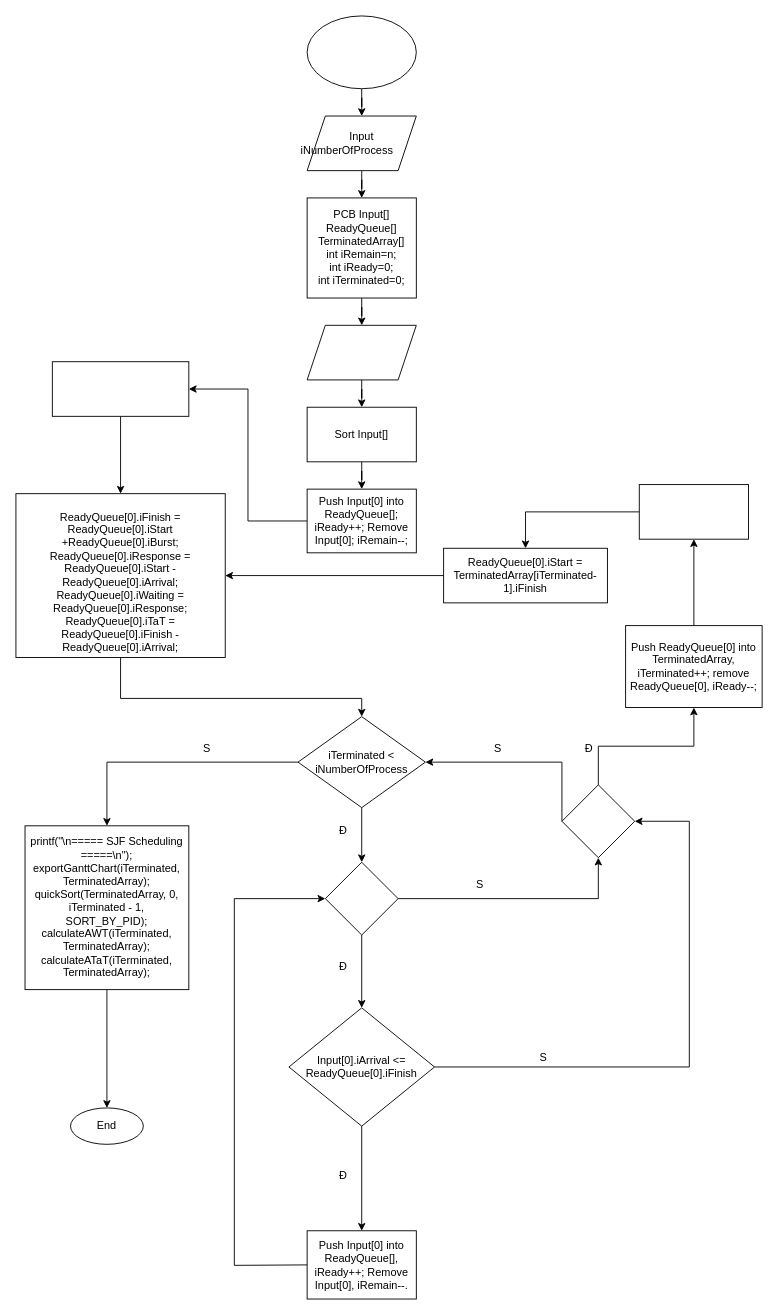
Some shapes in this 778 by 1315 pixel diagram are drawn without their labels. The shapes that lost their labels are listed below. From the top down, each one's box as (x1, y1, x2, y2) in pixels, then its label:
(306, 15, 416, 89): Start
(306, 324, 416, 380): Input Input[]
(51, 361, 189, 416): ReadyQueue[0].iStart = ReadyQueue[0].iArrival;
(638, 484, 748, 539): Sort ReadyQueue[] by burst
(561, 784, 635, 858): iReady>0
(324, 861, 398, 935): iRemain>0
